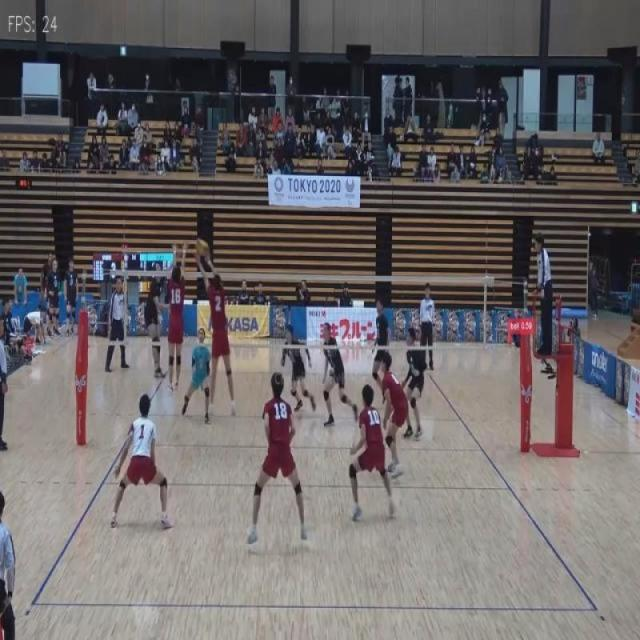volleyball: (195, 238, 209, 256)
